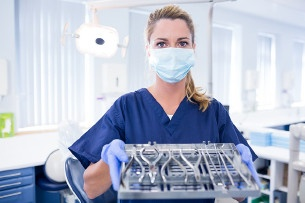Mask: (147, 34, 193, 82)
